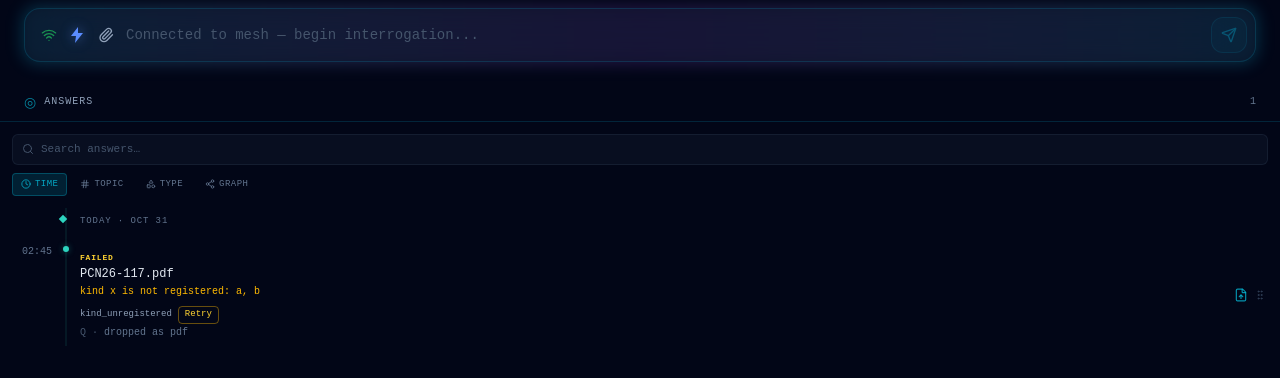
Scenario: a failed drop on the rail — failure, attempt, Retry › a refusal is shown inline on the entry
Click the button "Retry".
click(198, 315)  # box [178,306,219,324]
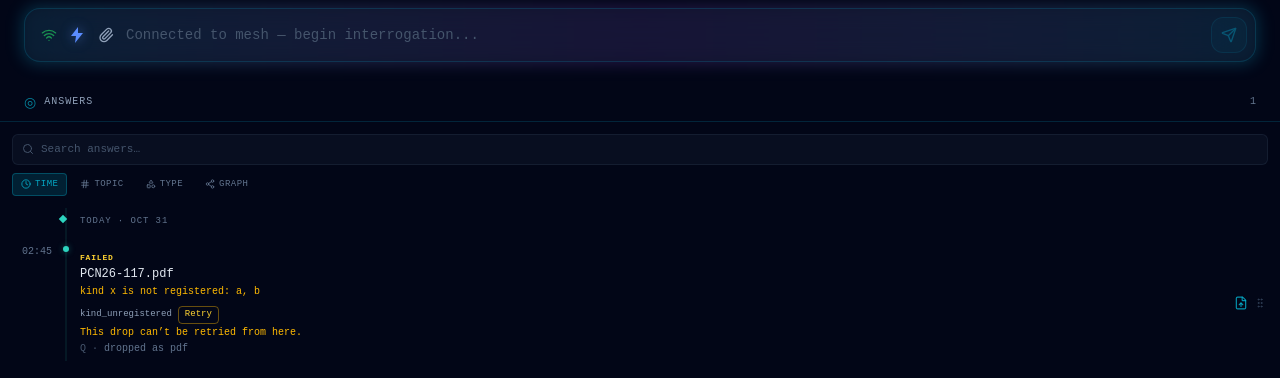
Expected: the text "failed" is shown, [80,252,114,264]
Expected: the message "This drop can’t be retried from here." is shown, [80,327,302,338]
